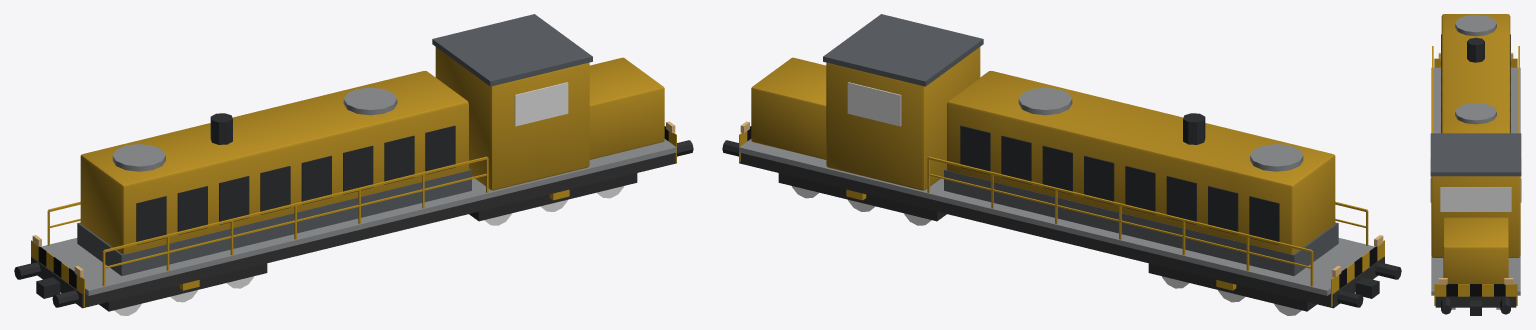
File: locomotive.glb
3 views of the same model, side by side, from view 1: azimuth 30°, elevation 25°; view 2: azimuth 150°, elevation 25°; view 3: azimuth 270°, elevation 25° (orthographic). The views are drawn at different scales.
Parts seen in each view (by area): view 1: Piece_lod0; view 2: Piece_lod0; view 3: Piece_lod0.
Part boxes in pixels (<box>): Piece_lod0: <box>14,14,693,315</box>; Piece_lod0: <box>722,14,1401,315</box>; Piece_lod0: <box>1430,14,1521,315</box>.
Size of what is drawn, in the model's own units: 19.2 by 4.63 by 3.06.
